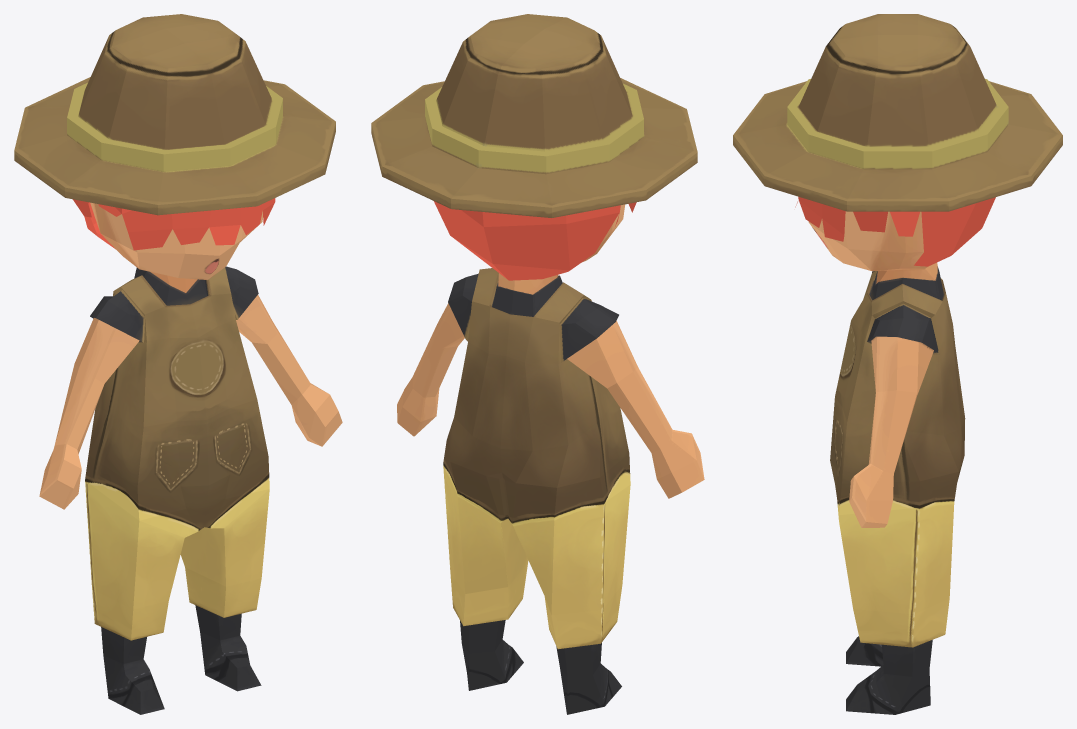
The model's file is adventurer_boy.glb.
3 renders of one model, left to right at view 1: azimuth 30°, elevation 25°; view 2: azimuth 150°, elevation 25°; view 3: azimuth 270°, elevation 25°, orthographic.
Visible parts, largest first — view 1: Object_2; view 2: Object_2; view 3: Object_2.
Part boxes in pixels (left/top/right/bottom): Object_2: left=14, top=14, right=342, bottom=714; Object_2: left=371, top=14, right=704, bottom=714; Object_2: left=733, top=14, right=1062, bottom=714.
Bounding box in the file's own units: 3.75 × 7.63 × 3.53.
Materials: 1 (1 with a texture image).
